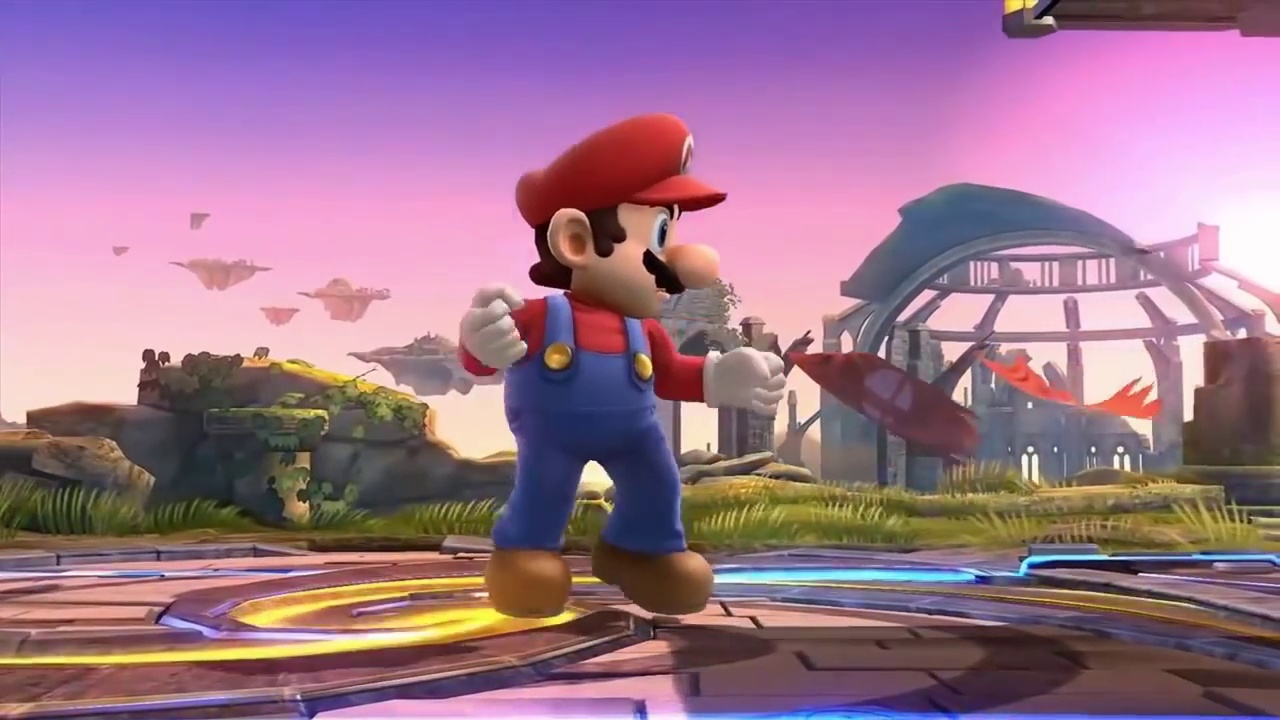Mario: (459, 113, 787, 620)
